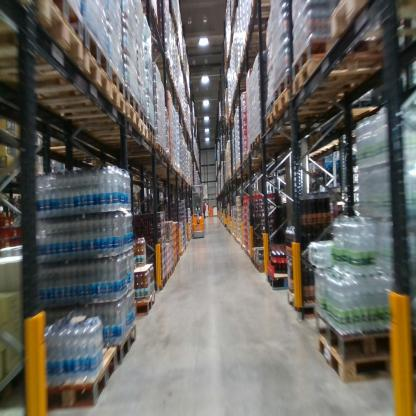pallet: (1, 0, 87, 76), (36, 345, 122, 410), (292, 52, 384, 109), (17, 51, 109, 105), (314, 322, 393, 383), (28, 73, 126, 122), (315, 302, 393, 362), (291, 36, 392, 80), (328, 3, 416, 40), (273, 85, 347, 120), (69, 99, 142, 134), (276, 77, 348, 106), (265, 106, 339, 133), (48, 1, 85, 40), (283, 284, 324, 319), (106, 325, 140, 367), (91, 121, 149, 145), (85, 32, 109, 78), (49, 138, 89, 165), (97, 131, 157, 149), (254, 131, 315, 146), (266, 270, 298, 295), (132, 290, 156, 320), (114, 142, 165, 155), (108, 62, 125, 98), (248, 141, 295, 154), (126, 83, 141, 118), (248, 1, 273, 20), (141, 1, 157, 27), (138, 103, 151, 128), (253, 258, 267, 276), (146, 117, 155, 138), (158, 275, 168, 291), (250, 254, 257, 269), (247, 250, 252, 264), (170, 263, 175, 276), (166, 269, 172, 278)
pallet_truck: (188, 180, 205, 240)
